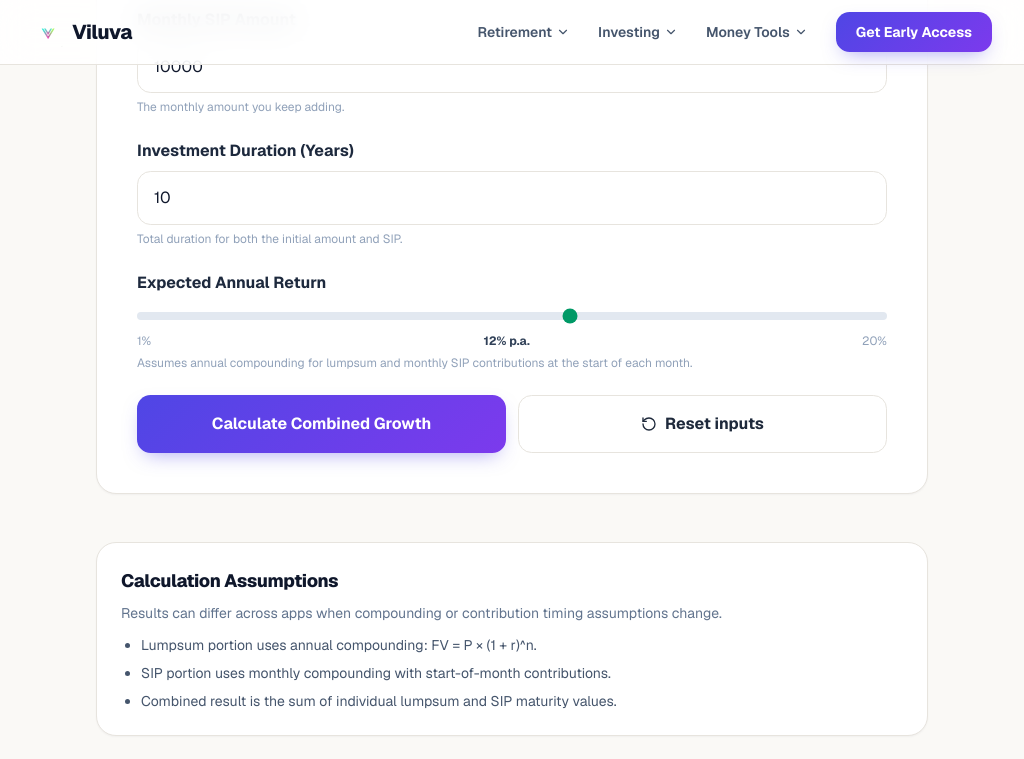
Test case: Investment calculators UI › calculates the default combined SIP and lumpsum projection
(page scrolled)
Click the button "Calculate Combined Growth".
click(322, 424)  # box top-left (137, 395), bottom-right (506, 453)
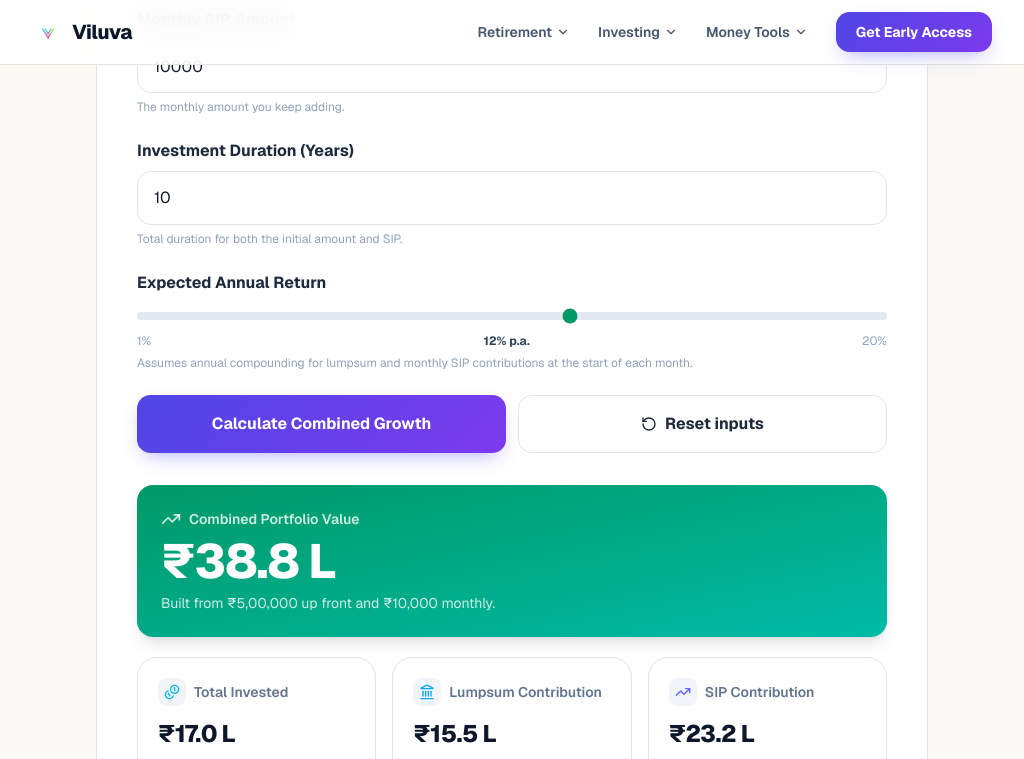
expect the text "Combined Portfolio Value" is shown: met, box top-left (161, 509), bottom-right (360, 529)
expect the text "₹38.8 L" is shown: met, box top-left (161, 530), bottom-right (336, 592)
